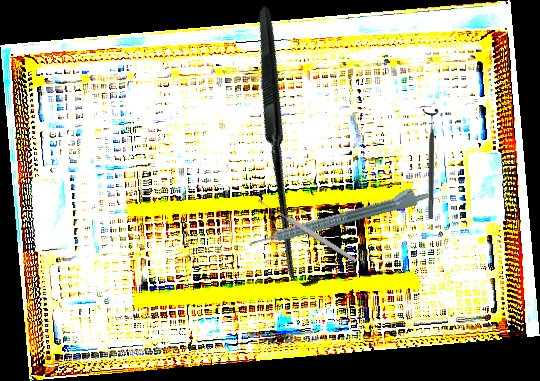Fixation Ring: (422, 109, 439, 219)
Handpiece: (244, 182, 432, 250)
Hook Surgical: (146, 5, 430, 292)
Surgical Spoon: (256, 197, 359, 264)
